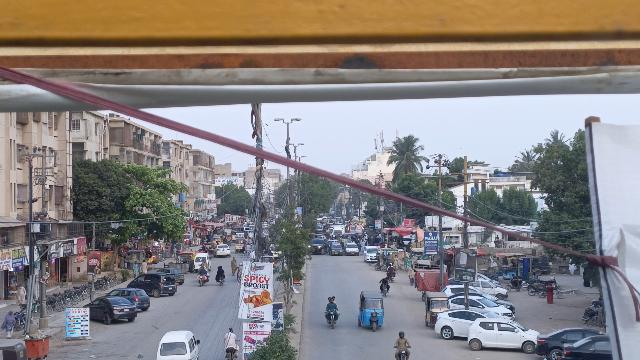Bike: (325, 309, 339, 330), (394, 344, 410, 360), (223, 346, 238, 360), (379, 282, 391, 298), (195, 273, 207, 287), (217, 275, 226, 288)
Car: (466, 317, 538, 354), (536, 323, 603, 359), (433, 308, 492, 339), (80, 296, 137, 325), (126, 272, 179, 297), (105, 286, 152, 311), (562, 334, 610, 358)
Person: (0, 308, 18, 338), (222, 325, 238, 348), (395, 328, 410, 348), (230, 255, 237, 278), (327, 296, 337, 310), (197, 263, 208, 274), (215, 264, 225, 276), (380, 276, 389, 286)
Rickshaw: (356, 290, 388, 333), (422, 291, 450, 328)
Van: (156, 329, 200, 360)
